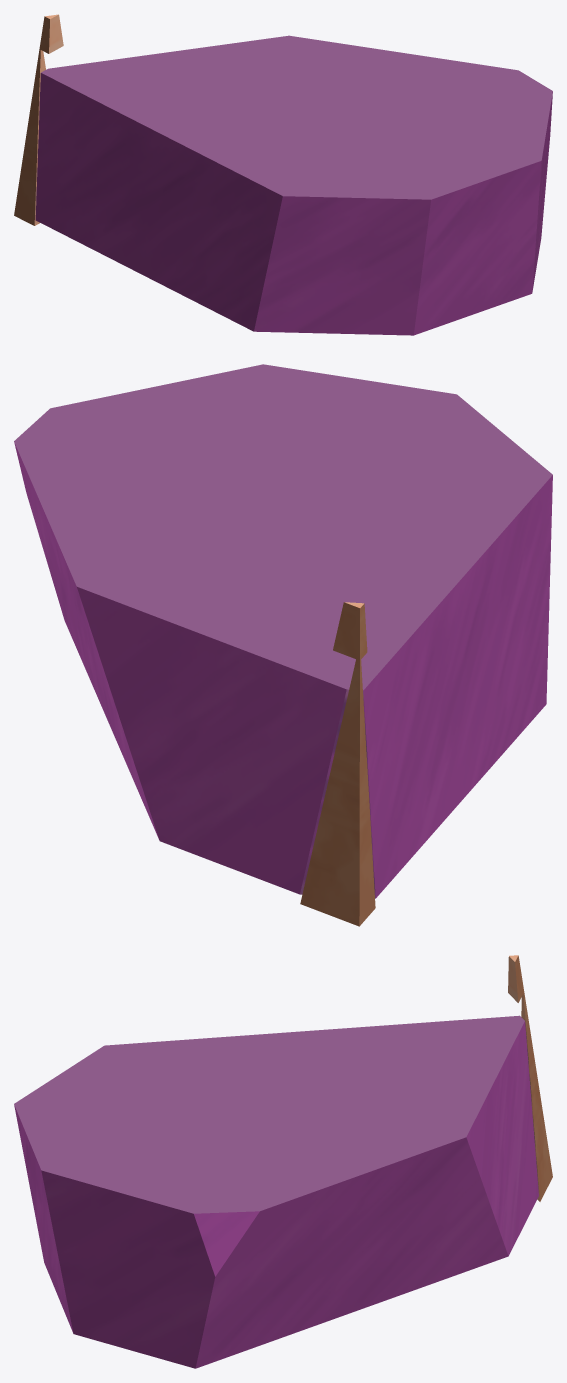
The model's file is vat_plum_s04.fbx.
3 views of the same model, one above another, from view 1: azimuth 30°, elevation 25°; view 2: azimuth 150°, elevation 25°; view 3: azimuth 270°, elevation 25° (orthographic). The views are drawn at different scales.
Parts seen in each view (by area): view 1: vat_plum_s04; view 2: vat_plum_s04; view 3: vat_plum_s04.
Boxes of the visible parts, x1,y1,x2,y2 form: vat_plum_s04: (14, 14, 552, 335); vat_plum_s04: (14, 364, 552, 926); vat_plum_s04: (14, 955, 552, 1368).
Bounding box in the file's own units: 3.3 × 1.7 × 3.61.
